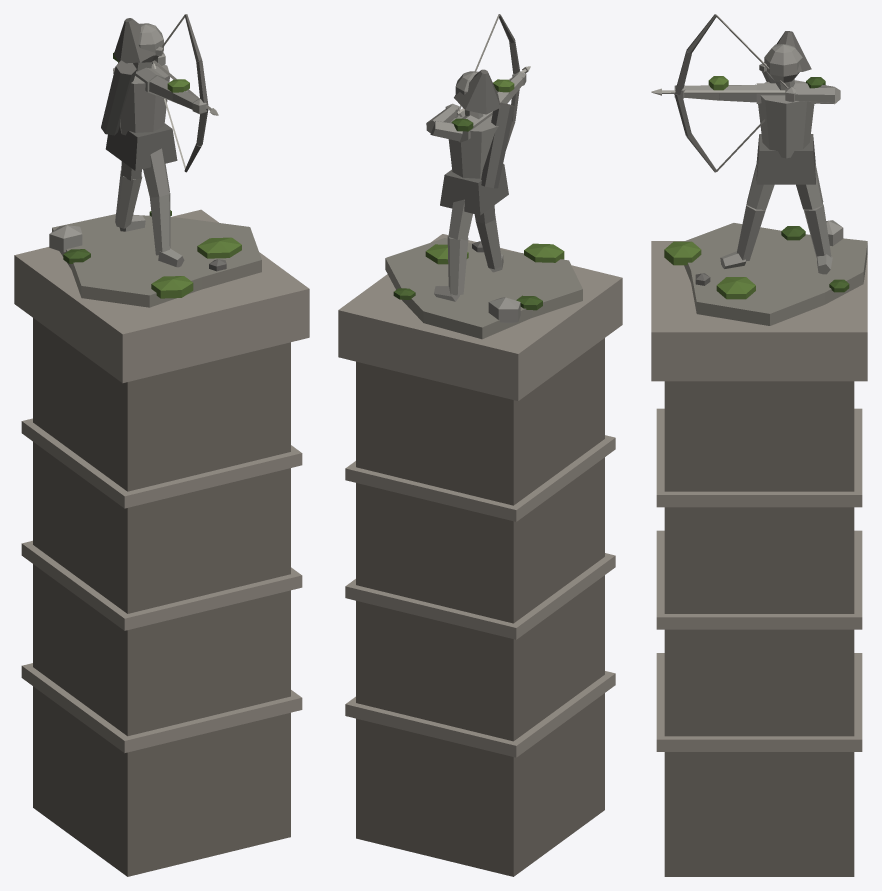
Rendered from decor_petrified_archer.glb.
The picture shows the model from 3 angles, left to right: view 1: azimuth 30°, elevation 25°; view 2: azimuth 150°, elevation 25°; view 3: azimuth 270°, elevation 25°; orthographic projection. The views are drawn at different scales.
Parts seen in each view (by area): view 1: decor_petrified_archer; view 2: decor_petrified_archer; view 3: decor_petrified_archer.
Part boxes in pixels (x1,y1,x2,y2): decor_petrified_archer: [14, 14, 309, 876]; decor_petrified_archer: [338, 14, 622, 876]; decor_petrified_archer: [651, 14, 867, 876].
Size of the model in its own units: 1.6 by 6.74 by 1.6.
